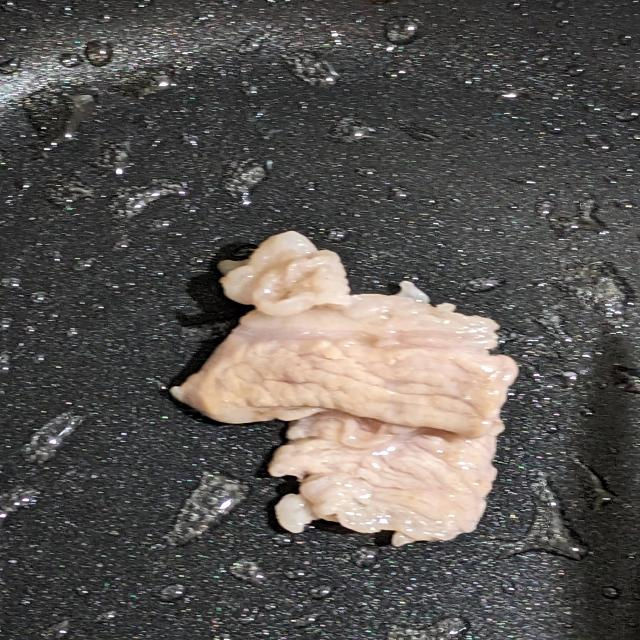NG undercooked pork,: (164, 213, 539, 556)
